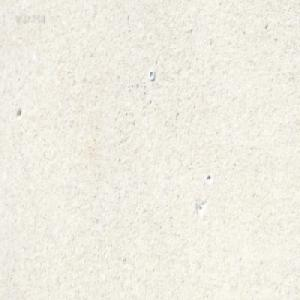Washer: (148, 69, 155, 81)
